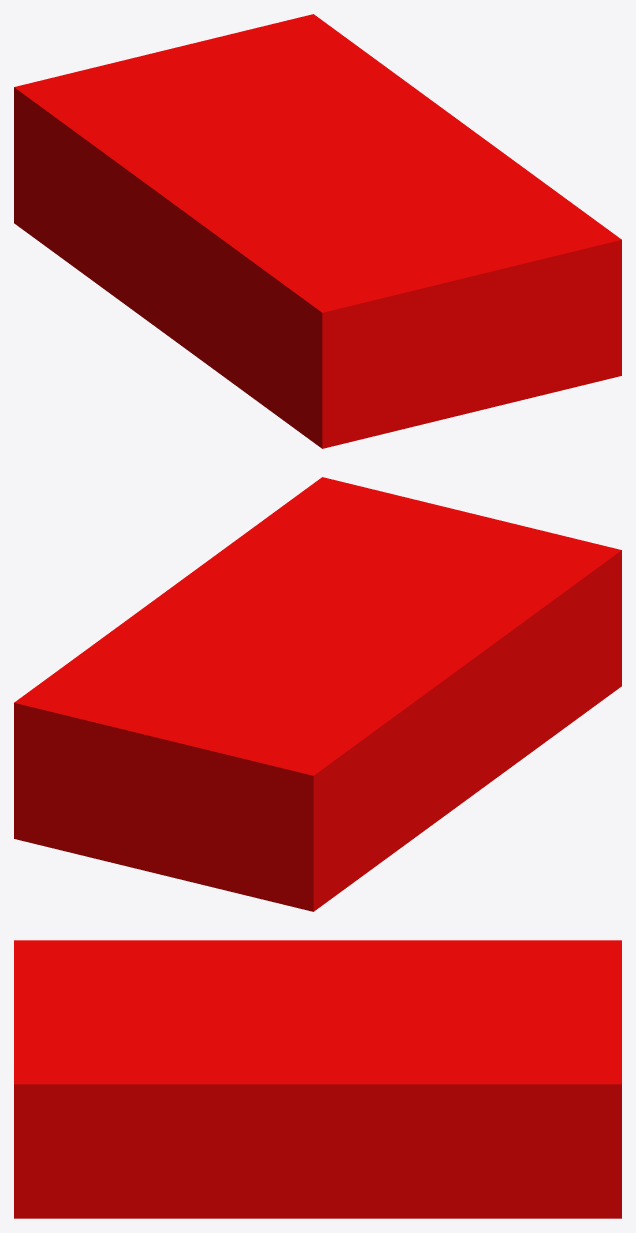
3 renders of one model, top to bottom at view 1: azimuth 30°, elevation 25°; view 2: azimuth 150°, elevation 25°; view 3: azimuth 270°, elevation 25°, orthographic.
Bounding box in the file's own units: 1068 × 463 × 1903.
